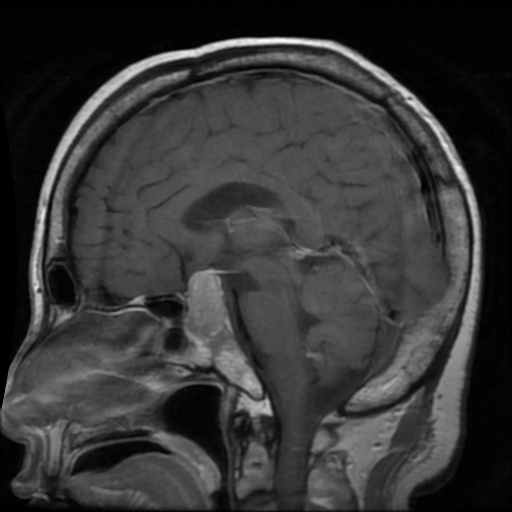pituitary: (186, 269, 226, 338)
